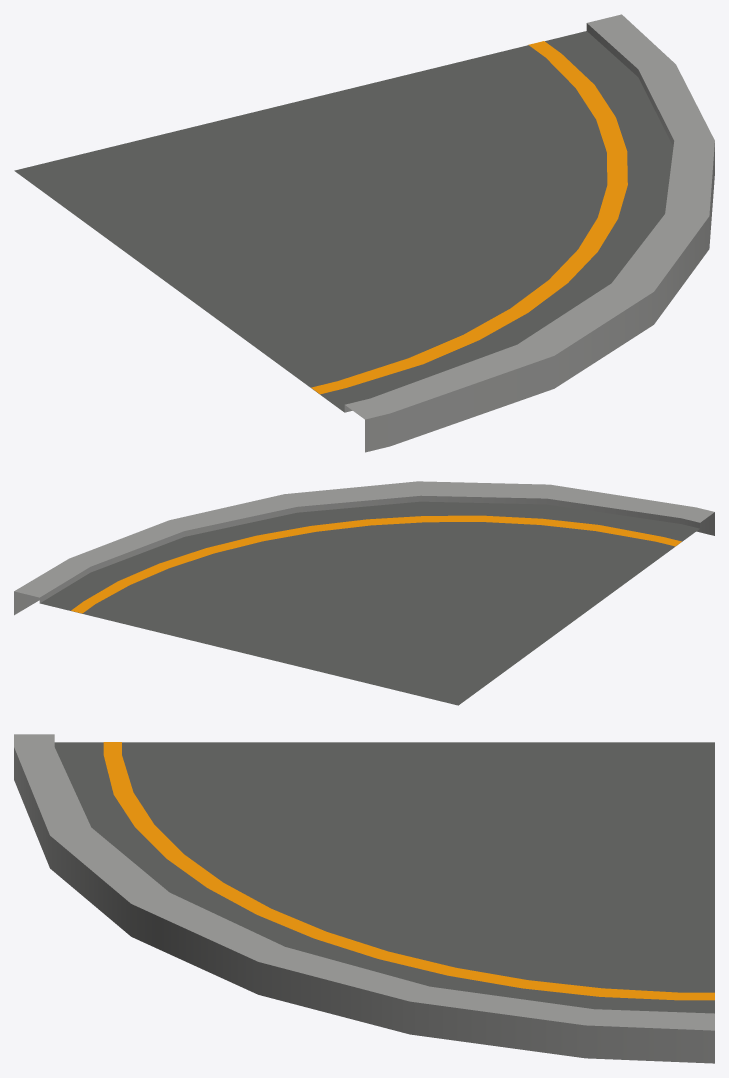
Rendered from ParkingRoad_B_2.fbx.
3 views of the same model, one above another, from view 1: azimuth 30°, elevation 25°; view 2: azimuth 150°, elevation 25°; view 3: azimuth 270°, elevation 25° (orthographic). The views are drawn at different scales.
Parts seen in each view (by area): view 1: ParkingRoad_B_2; view 2: ParkingRoad_B_2; view 3: ParkingRoad_B_2.
Boxes of the visible parts, box(x1,y1,x2,y2) form: ParkingRoad_B_2: box(14, 14, 714, 452); ParkingRoad_B_2: box(14, 481, 714, 705); ParkingRoad_B_2: box(14, 734, 714, 1063).
Bounding box in the file's own units: 800 × 41.48 × 800.
